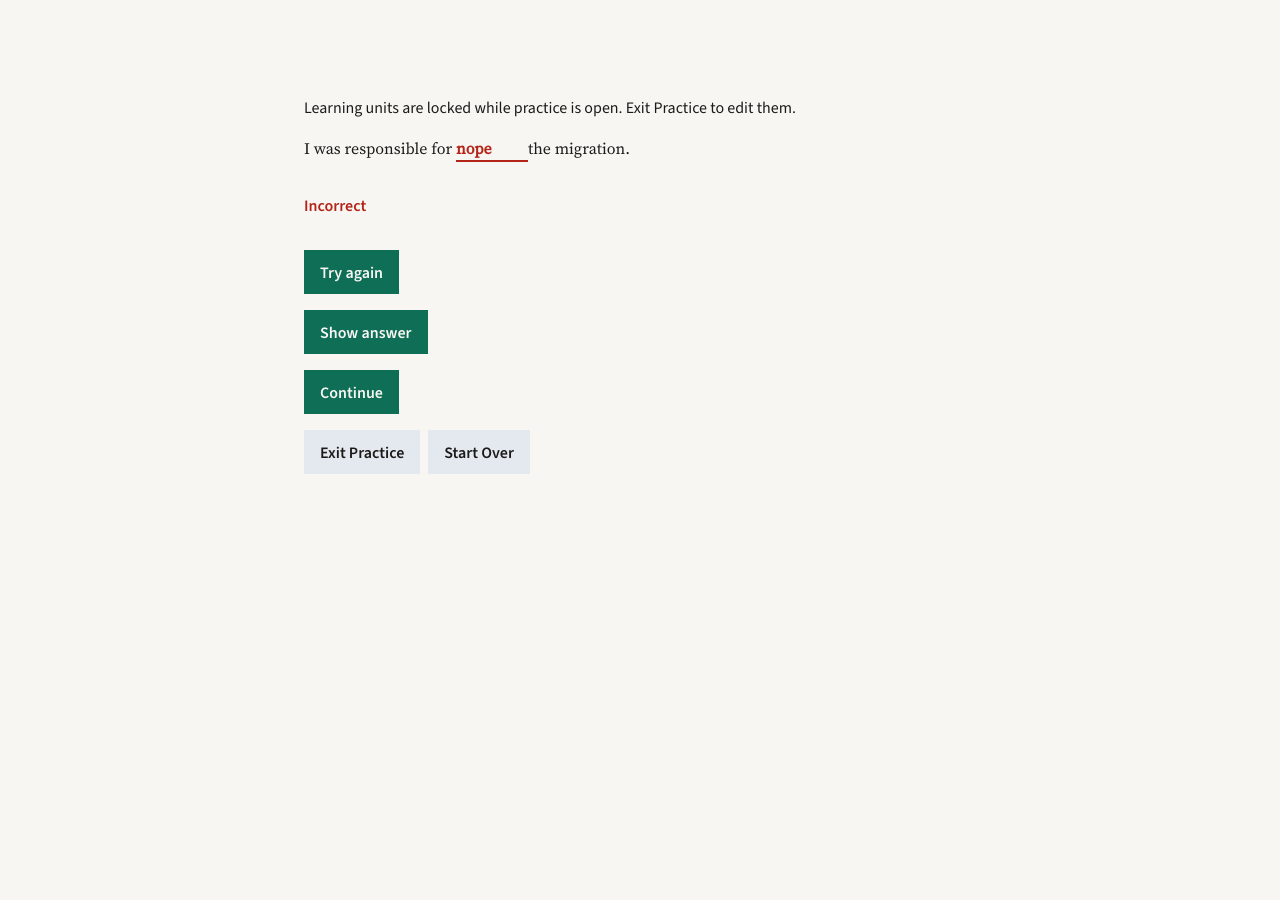
Test: Lesson workspace shell › continues into the next round and keeps the opening score on exit
This screenshot has width=1280, height=900.
Expected: the button "Try again" is enabled, [304,250,399,294]
What coordinates should you click on to do the following:
click the button "Continue"
I would click on:
 (351, 392)
Its box is [304,370,399,414].
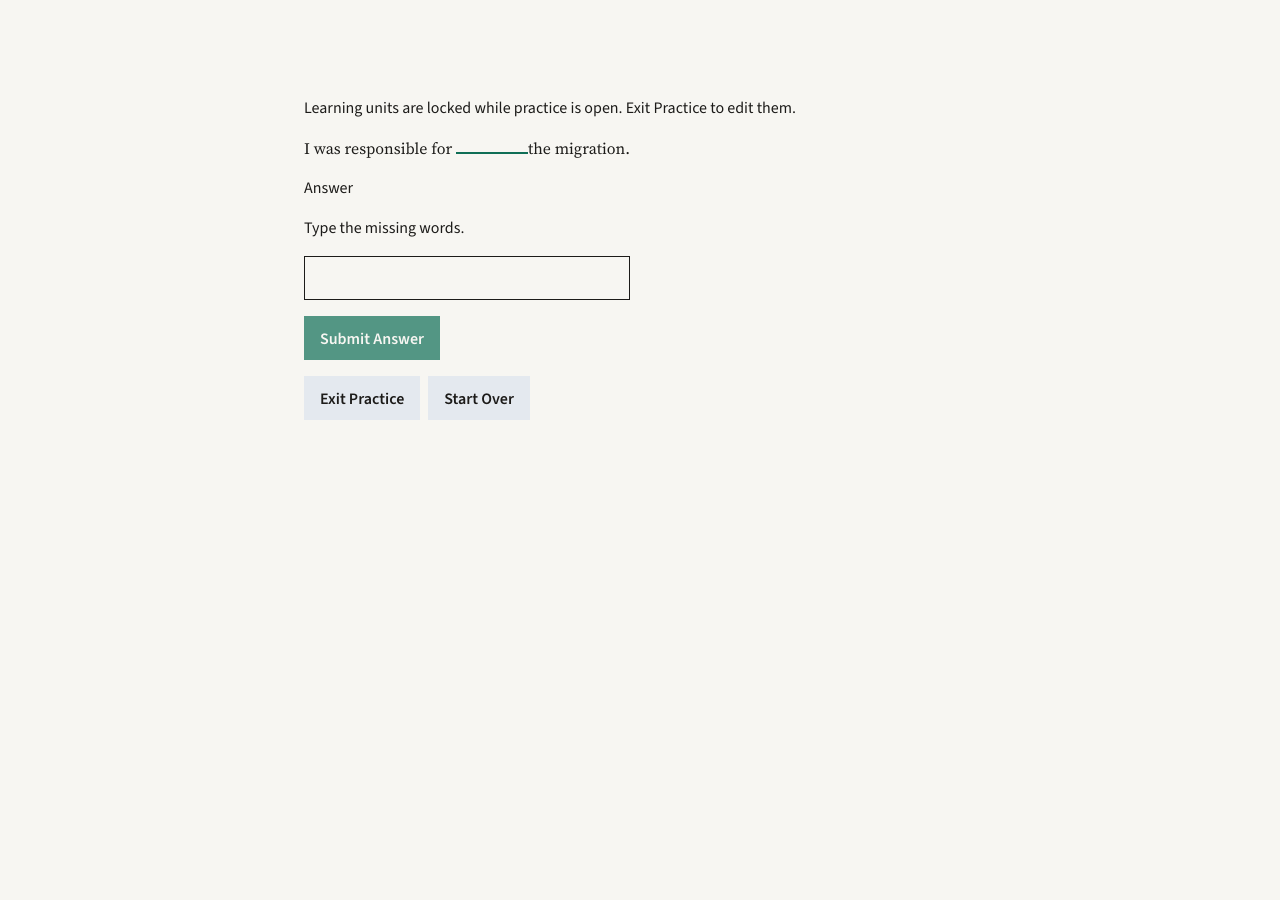
Expected: the button "Submit Answer" is disabled, [304,316,440,360]
Expected: the element with test id "feedback-card" is gone
Expected: the button "Try again" is gone
What coordinates should you click on to do the following:
click the button "Exit Practice"
I would click on:
 (362, 398)
Its box is [304,376,420,420].
(page scrolled)
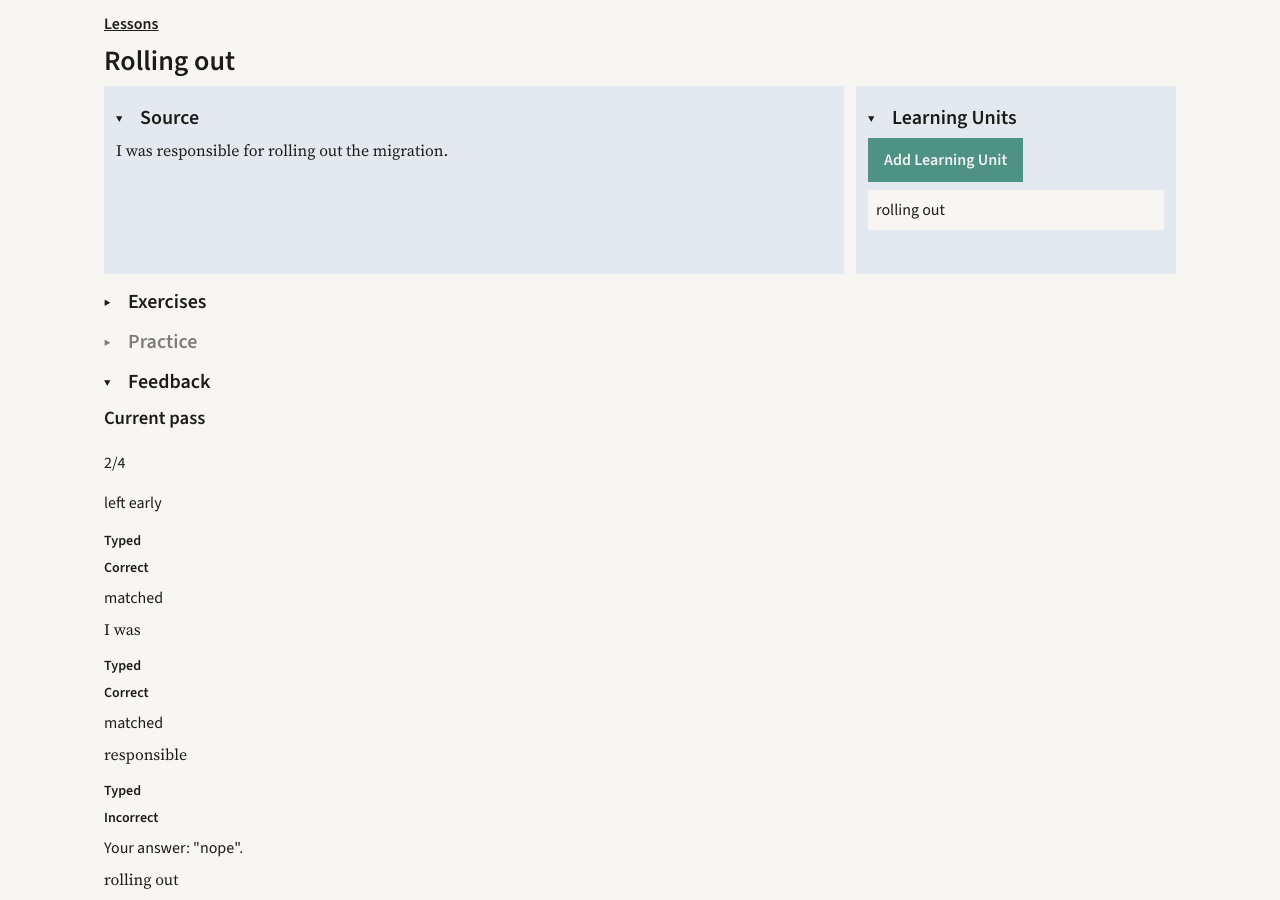
Expected: the element "Current pass" shows "2/4", [104,452,126,472]
